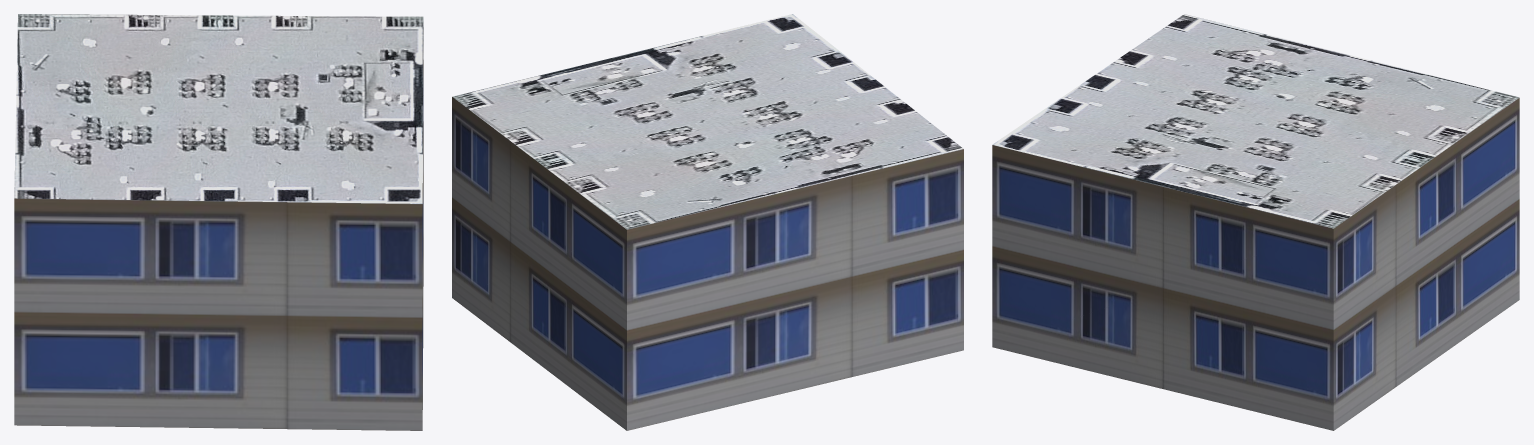
Rendered from ResTex__136.fbx.
3 renders of one model, left to right at view 1: azimuth 30°, elevation 25°; view 2: azimuth 150°, elevation 25°; view 3: azimuth 270°, elevation 25°, orthographic. The views are drawn at different scales.
Parts seen in each view (by area): view 1: CityEngineMaterial_23_m, CityEngineMaterial_m; view 2: CityEngineMaterial_23_m, CityEngineMaterial_m; view 3: CityEngineMaterial_23_m, CityEngineMaterial_m.
Part boxes in pixels (x1,y1,x2,y2): CityEngineMaterial_23_m: (14,60,423,430); CityEngineMaterial_m: (14,14,423,203); CityEngineMaterial_23_m: (452,97,963,430); CityEngineMaterial_m: (452,14,963,229); CityEngineMaterial_23_m: (992,98,1519,430); CityEngineMaterial_m: (992,14,1519,228).
Bounding box in the file's own units: 13.64 × 6 × 14.17.
2 materials, 2 textured.
